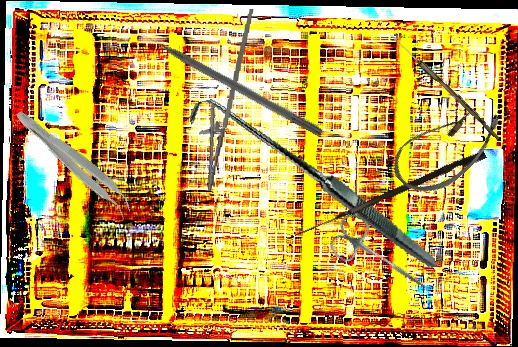Cannula: (383, 84, 511, 209)
Hook Surgical: (186, 56, 437, 316), (294, 146, 487, 246)
Iris Scissors: (324, 208, 444, 309)
Needle Holder: (192, 4, 255, 194)
Pusher: (133, 24, 325, 138)
Surgical Spoon: (387, 32, 503, 141)
Tissue Forceps: (8, 106, 139, 221)
